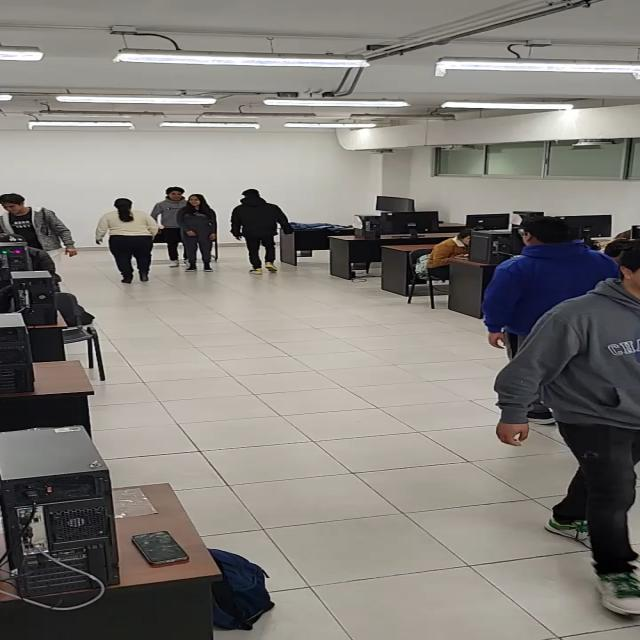Persona: (551, 248, 640, 604), (498, 222, 604, 305), (97, 199, 161, 279), (1, 193, 76, 255), (235, 188, 286, 272), (181, 194, 218, 270), (158, 186, 184, 264)
